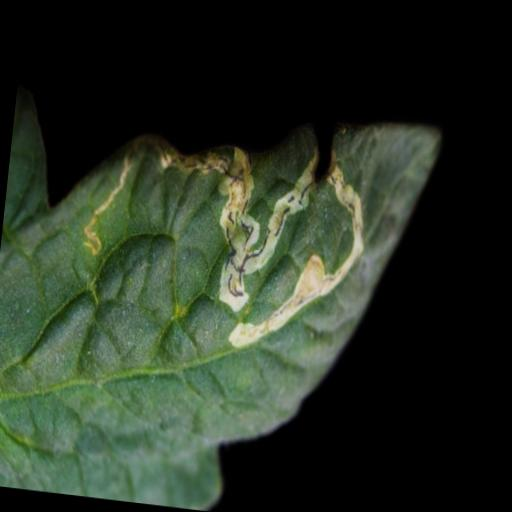Leaf_Miner: (0, 73, 443, 512)
